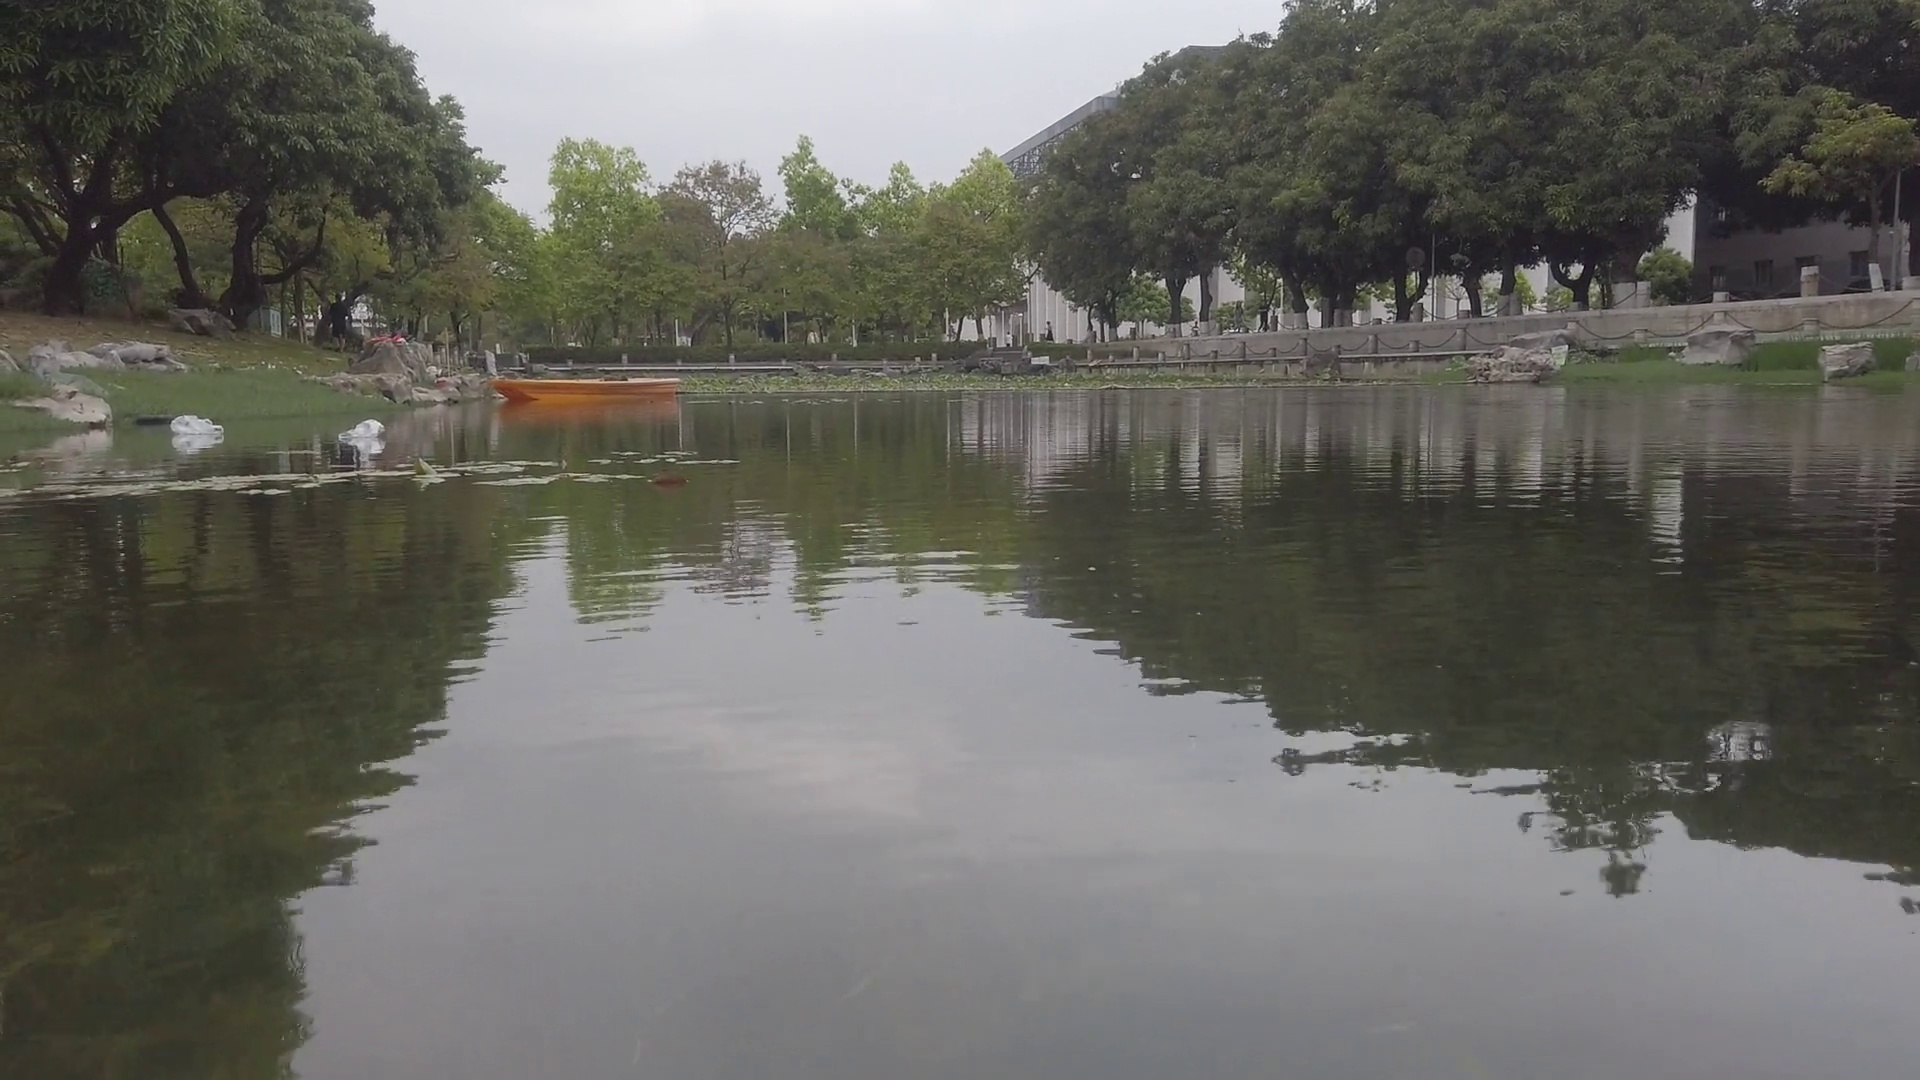paper: (268, 444, 328, 458)
plastic: (167, 413, 224, 436), (342, 418, 385, 440)
